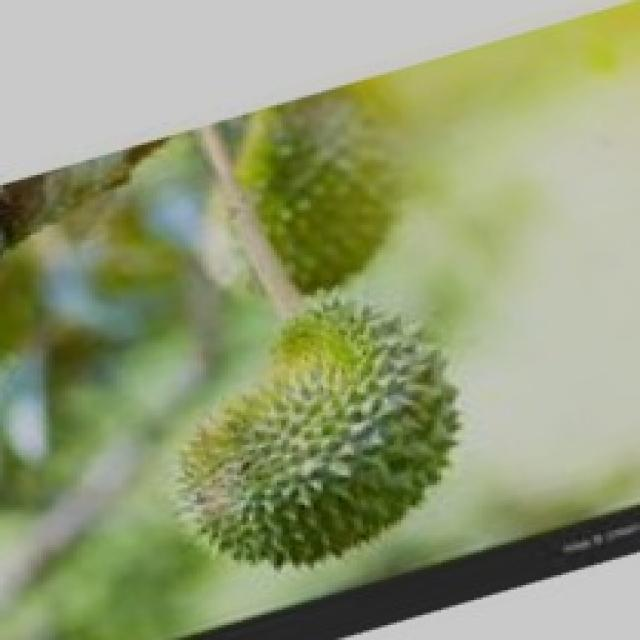fruit: (126, 250, 542, 632)
